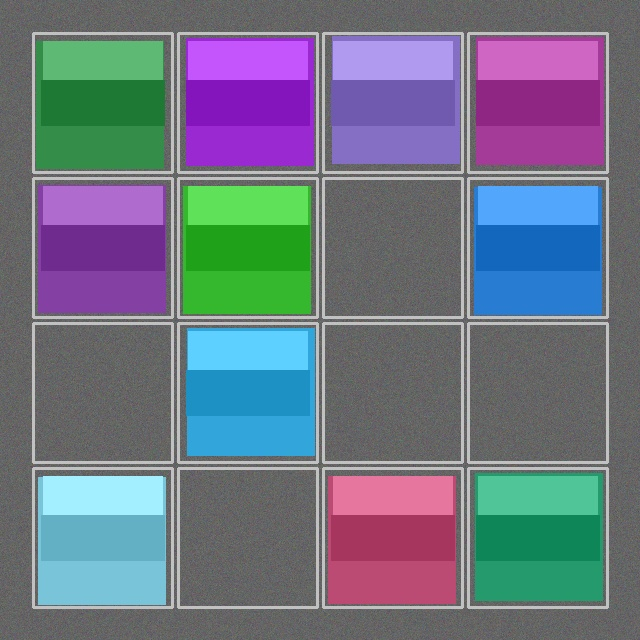space-empty: (325, 180, 460, 315), (35, 325, 170, 460), (325, 325, 460, 460), (470, 325, 605, 460), (180, 470, 315, 605)
space-occupied: (35, 35, 170, 170), (180, 35, 315, 170), (325, 35, 460, 170), (470, 35, 605, 170), (35, 180, 170, 315), (180, 180, 315, 315), (470, 180, 605, 315), (180, 325, 315, 460), (35, 470, 170, 605), (325, 470, 460, 605), (470, 470, 605, 605)
